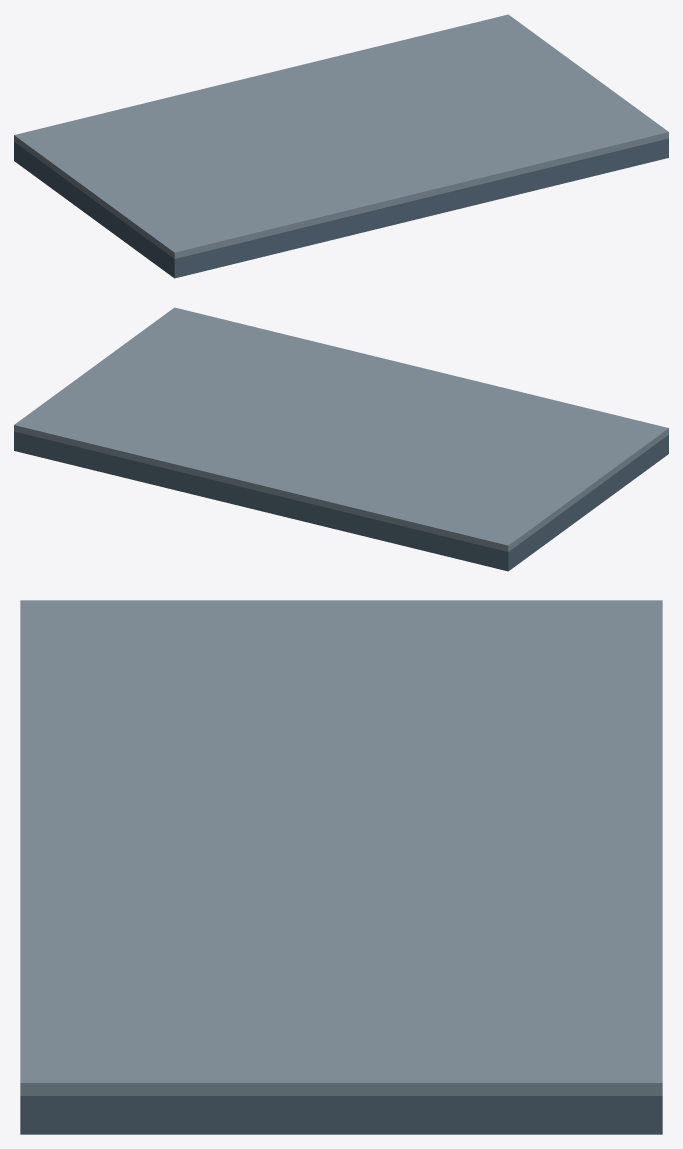
The model's file is TS-632.00.000-04-plita-dielektricheskaya-90x160.glb.
The picture shows the model from 3 angles, top to bottom: view 1: azimuth 30°, elevation 25°; view 2: azimuth 150°, elevation 25°; view 3: azimuth 270°, elevation 25°; orthographic projection. The views are drawn at different scales.
Visible parts, largest first — view 1: prokladka, plita; view 2: prokladka, plita; view 3: prokladka, plita.
Part boxes in pixels (box(x1,y1,x2,y2)): prokladka: box(14, 14, 668, 258); plita: box(14, 138, 668, 278); prokladka: box(14, 307, 668, 551); plita: box(14, 431, 668, 571); prokladka: box(20, 600, 662, 1095); plita: box(20, 1096, 662, 1134).
Size of the model in its own units: 160 by 8 by 90.
